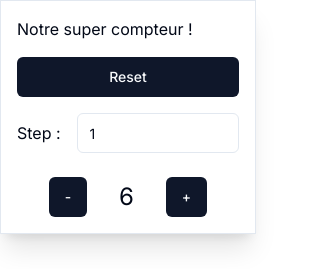
Test case: Le composant Counter est initialisé avec une valeur maximum de 10 (maxValue) et une valeur initiale de 6 › Si on clique 2 fois sur le bouton increment, et qu'on reset, la valeur du compteur est réinitialisée à 6
Step 1. Click the button "+" → (186, 197), box [166,177,207,217]
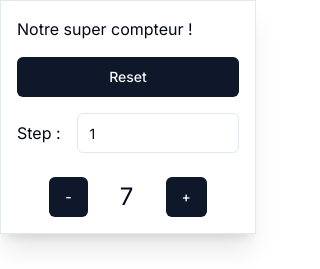
Step 2. Click the button "+" → (186, 197), box [166,177,207,217]
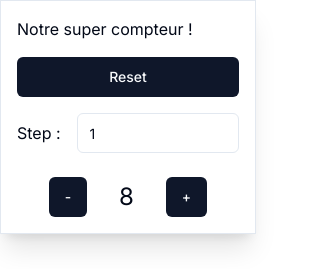
Expected: the text "8" is shown, [119,181,134,213]
Step 3. Click the button "Reset" → (128, 77), box [17,57,239,97]
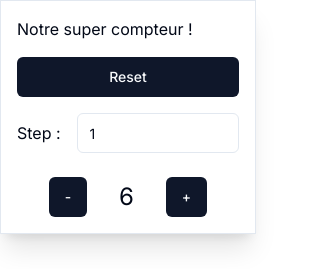
Expected: the text "6" is shown, [119,181,134,213]
